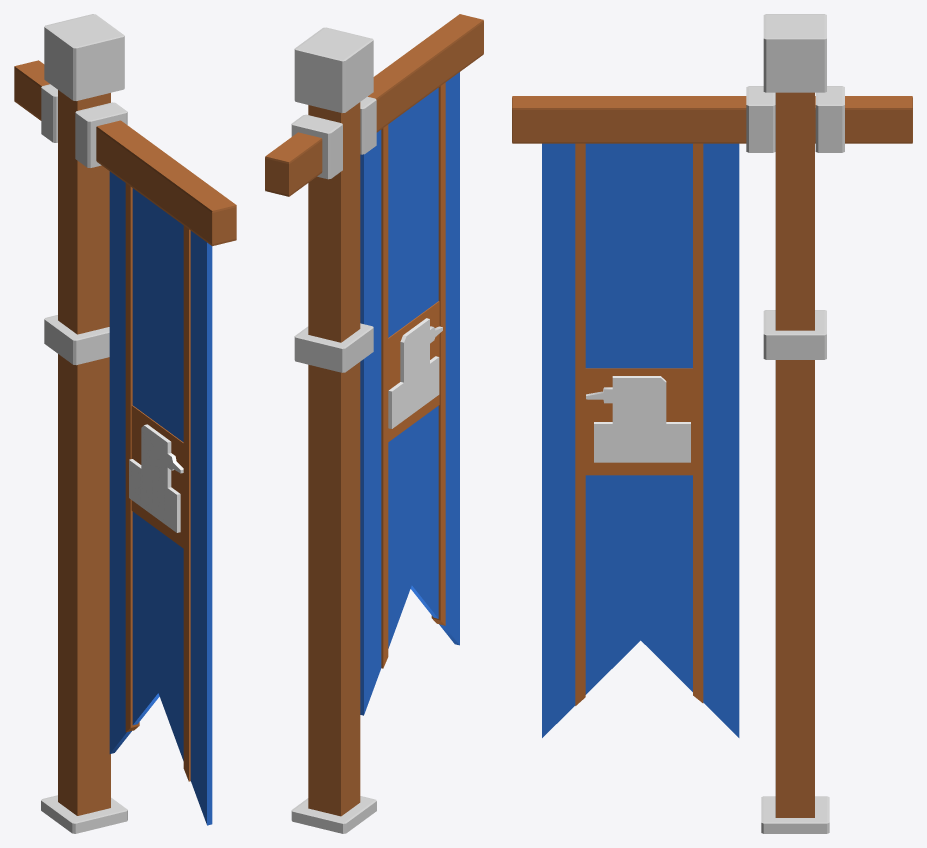
The picture shows the model from 3 angles, left to right: view 1: azimuth 30°, elevation 25°; view 2: azimuth 150°, elevation 25°; view 3: azimuth 270°, elevation 25°; orthographic projection. The views are drawn at different scales.
Parts seen in each view (by area): view 1: qi_01_3, qi_01_1, qi_01_2, qi_01_4, qi_01_5; view 2: qi_01_1, qi_01_3, qi_01_2, qi_01_4, qi_01_5; view 3: qi_01_3, qi_01_1, qi_01_4, qi_01_2, qi_01_5.
Part boxes in pixels (x1,y1,x2,y2): qi_01_3: (109,171,212,825); qi_01_1: (14,60,236,815); qi_01_2: (41,14,127,833); qi_01_4: (125,183,190,781); qi_01_5: (129,424,183,532); qi_01_1: (265,14,483,816); qi_01_3: (360,72,459,715); qi_01_2: (291,27,376,833); qi_01_4: (381,82,445,668); qi_01_5: (388,318,442,428); qi_01_3: (542,143,739,737); qi_01_1: (512,92,912,817); qi_01_4: (575,143,703,705); qi_01_2: (746,14,844,833); qi_01_5: (586,376,690,462).
Size of the model in its own units: 12.57 by 169 by 77.56.
